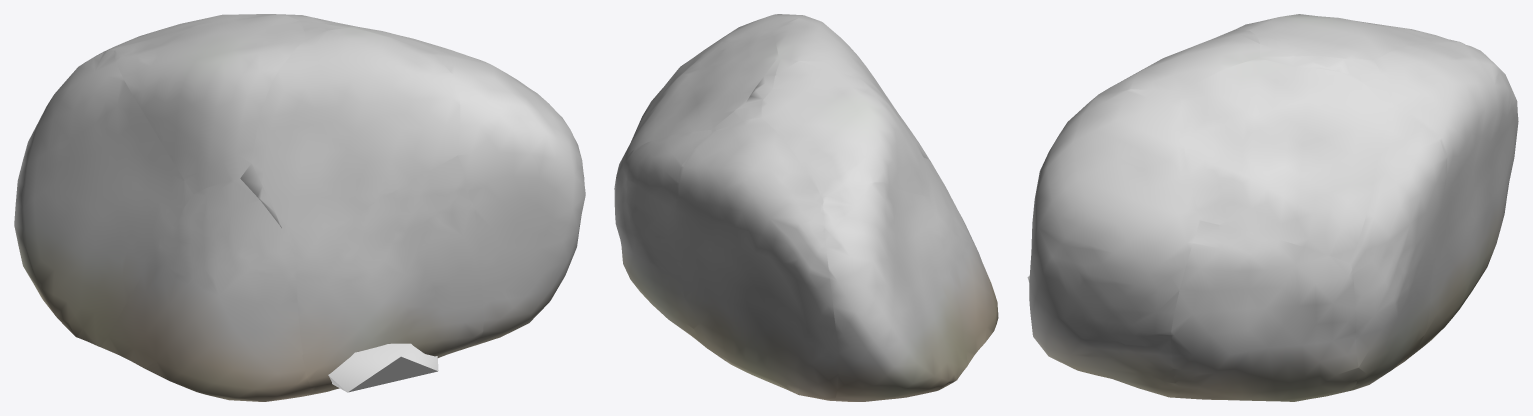
File: gold_rock_v2.glb
3 views of the same model, side by side, from view 1: azimuth 30°, elevation 25°; view 2: azimuth 150°, elevation 25°; view 3: azimuth 270°, elevation 25° (orthographic). The views are drawn at different scales.
Visible parts, largest first — view 1: Chunk_03, Chunk_09, Chunk_04, Chunk_05, Chunk_06, Chunk_08, Rubble_3, Chunk_02, Chunk_07, Chunk_22; view 2: Chunk_02, Chunk_03, Chunk_08, Chunk_01, Chunk_07, Chunk_04, Chunk_09, Chunk_06, Chunk_27, Chunk_21, Chunk_26; view 3: Chunk_06, Chunk_07, Chunk_00, Chunk_02, Chunk_01, Chunk_08, Chunk_09, Chunk_21, Chunk_26, Chunk_27.
Boxes of the visible parts, <box> form: Chunk_03: <box>14,49,193,346</box>; Chunk_09: <box>251,28,460,252</box>; Chunk_04: <box>100,178,316,401</box>; Chunk_05: <box>295,155,483,392</box>; Chunk_06: <box>433,53,585,344</box>; Chunk_08: <box>114,14,304,193</box>; Rubble_3: <box>328,343,438,392</box>; Chunk_02: <box>90,14,272,59</box>; Chunk_07: <box>301,15,486,62</box>; Chunk_22: <box>240,163,281,227</box>; Chunk_02: <box>676,117,838,400</box>; Chunk_03: <box>822,182,967,401</box>; Chunk_08: <box>761,68,929,197</box>; Chunk_01: <box>615,130,711,347</box>; Chunk_07: <box>620,32,778,168</box>; Chunk_04: <box>923,157,998,364</box>; Chunk_09: <box>772,18,931,162</box>; Chunk_06: <box>671,14,817,77</box>; Chunk_27: <box>773,58,819,88</box>; Chunk_21: <box>711,101,761,131</box>; Chunk_26: <box>745,57,780,103</box>; Chunk_06: <box>1029,89,1200,398</box>; Chunk_07: <box>1180,59,1388,263</box>; Chunk_00: <box>1170,221,1358,401</box>; Chunk_02: <box>1374,42,1518,354</box>; Chunk_01: <box>1350,107,1445,390</box>; Chunk_08: <box>1235,14,1455,60</box>; Chunk_09: <box>1090,29,1259,101</box>; Chunk_21: <box>1348,59,1393,108</box>; Chunk_26: <box>1257,56,1350,74</box>; Chunk_27: <box>1257,35,1319,56</box>.
Size of the model in its own units: 1.93 by 1.29 by 1.86.
